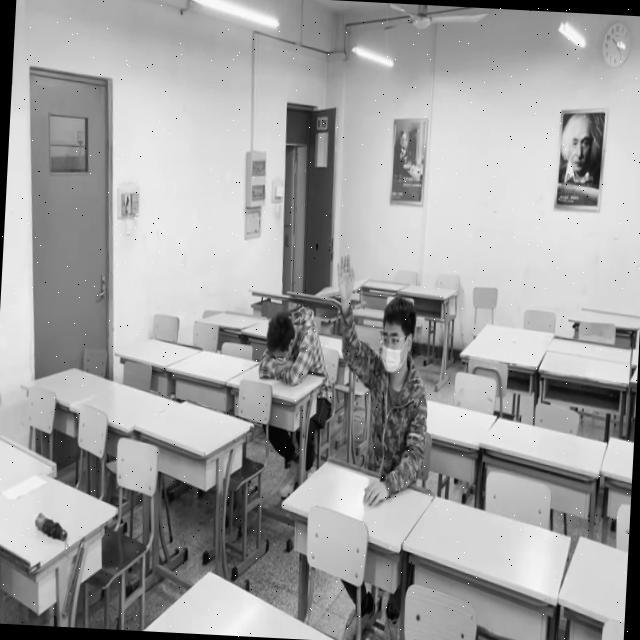sleep: (259, 313, 322, 380)
study: (327, 259, 434, 506)
